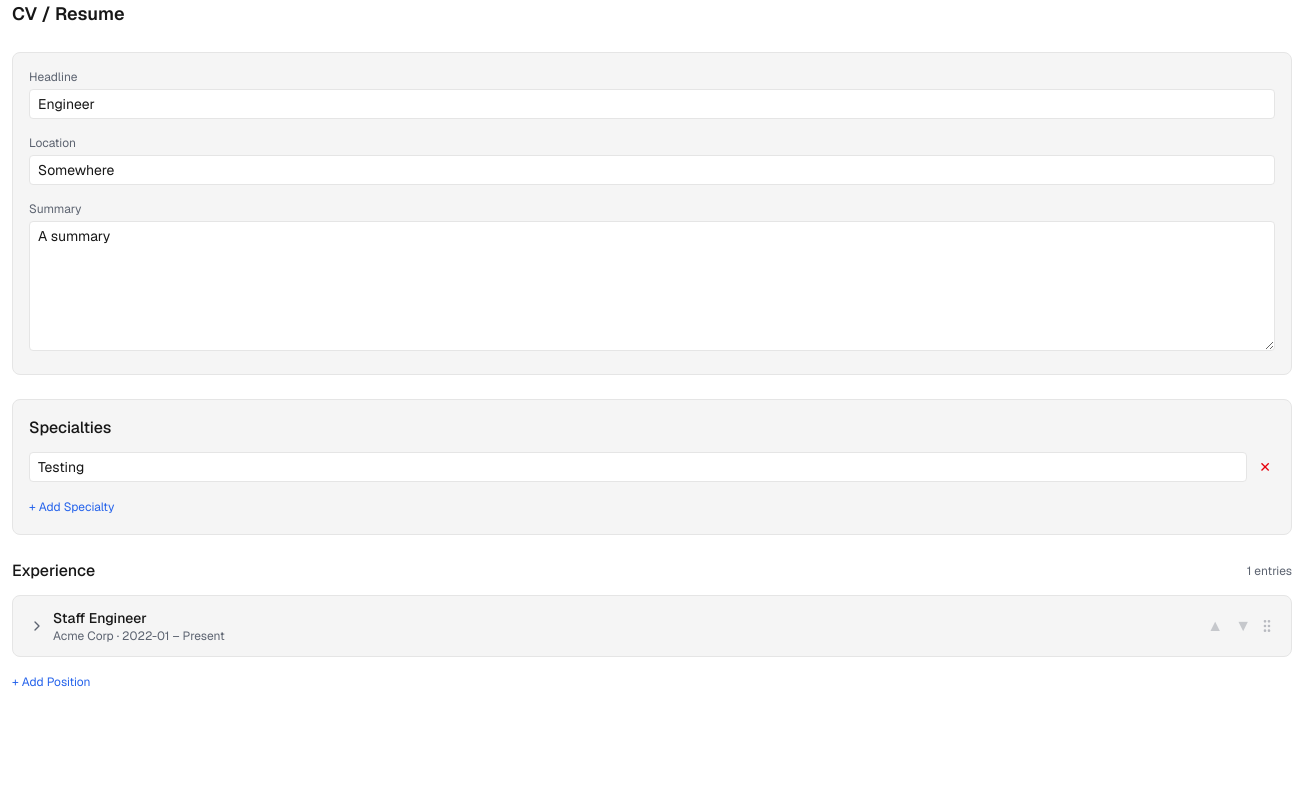
Test: CVTab › shows input when '+ Skill' is clicked
Click the text "Staff Engineer" at {"x": 100, "y": 618}, box [53,609,147,627]
(page scrolled)
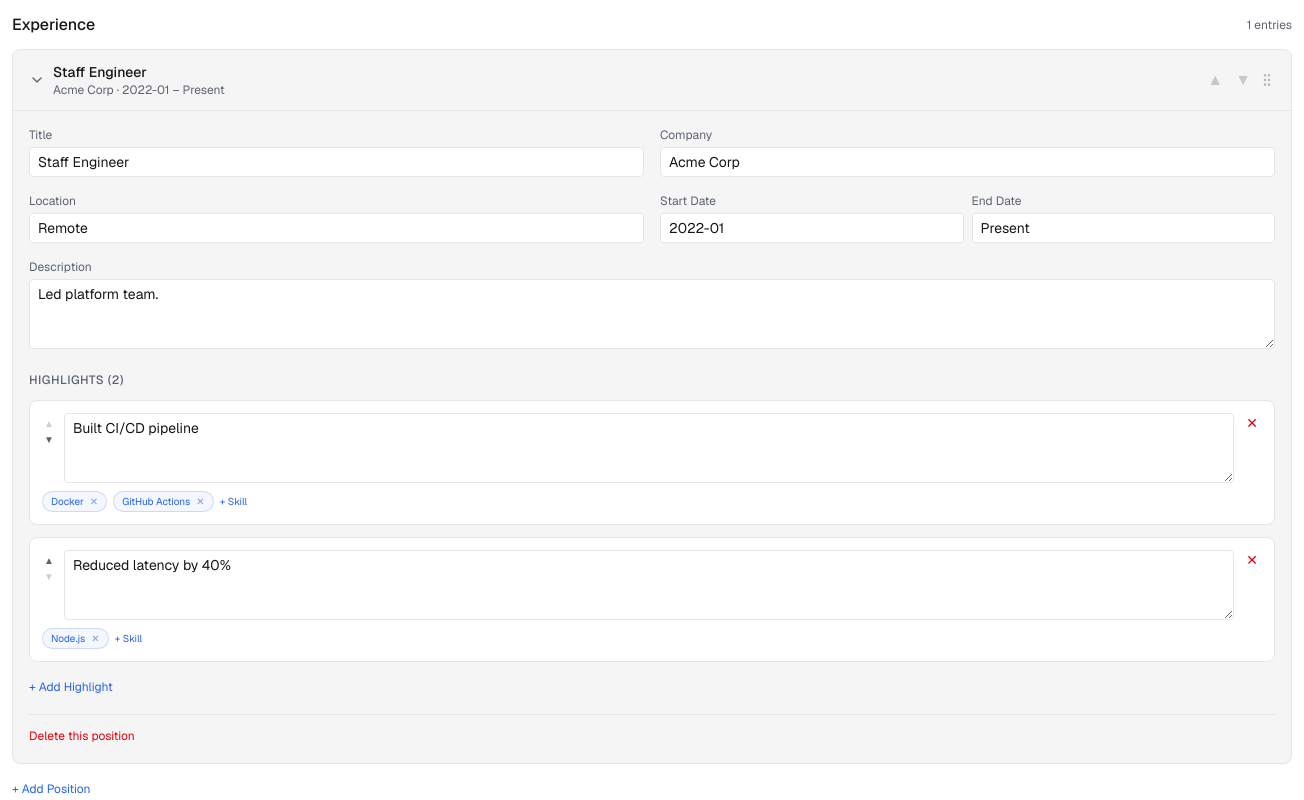
Click the button "+ Skill" next to "GitHub Actions" at {"x": 233, "y": 502}, box [220,494,247,509]
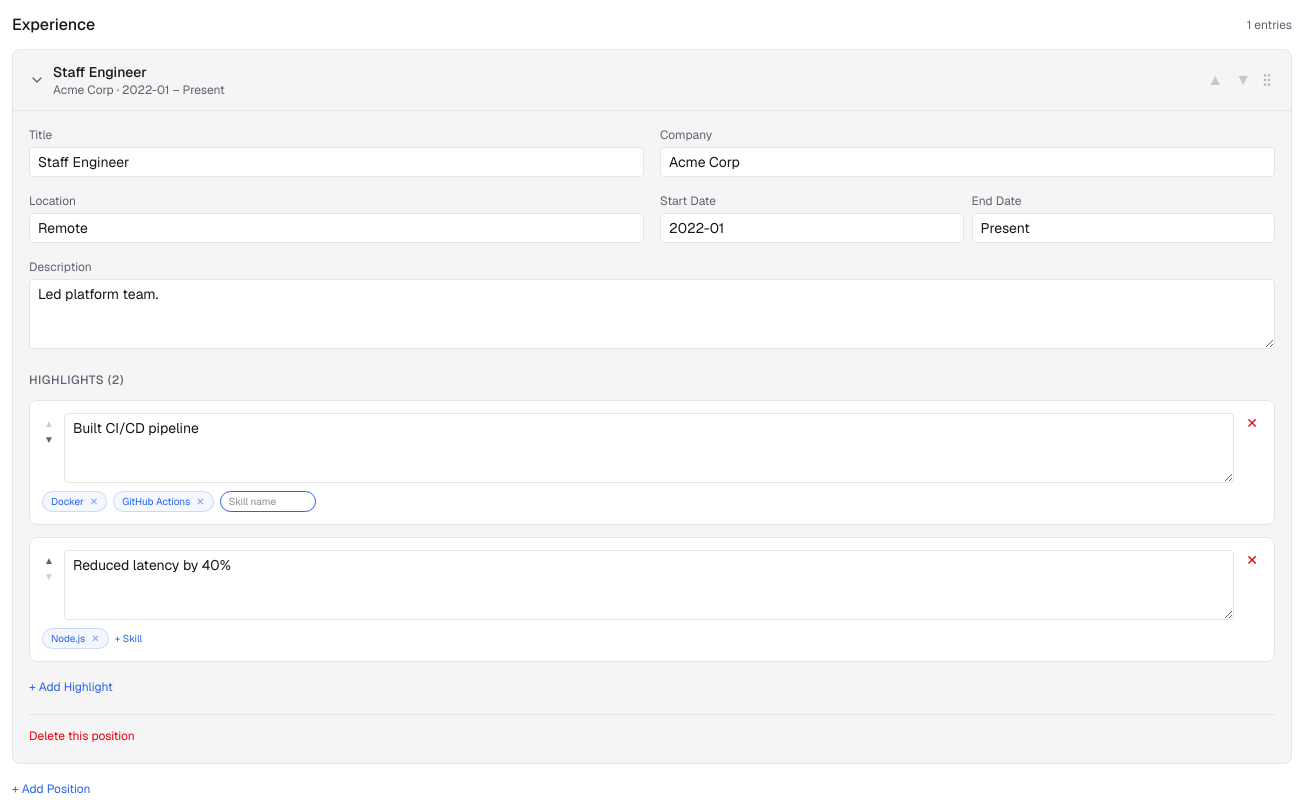
expect the field named "Add skill tag" is shown: met, box [220,491,316,512]
